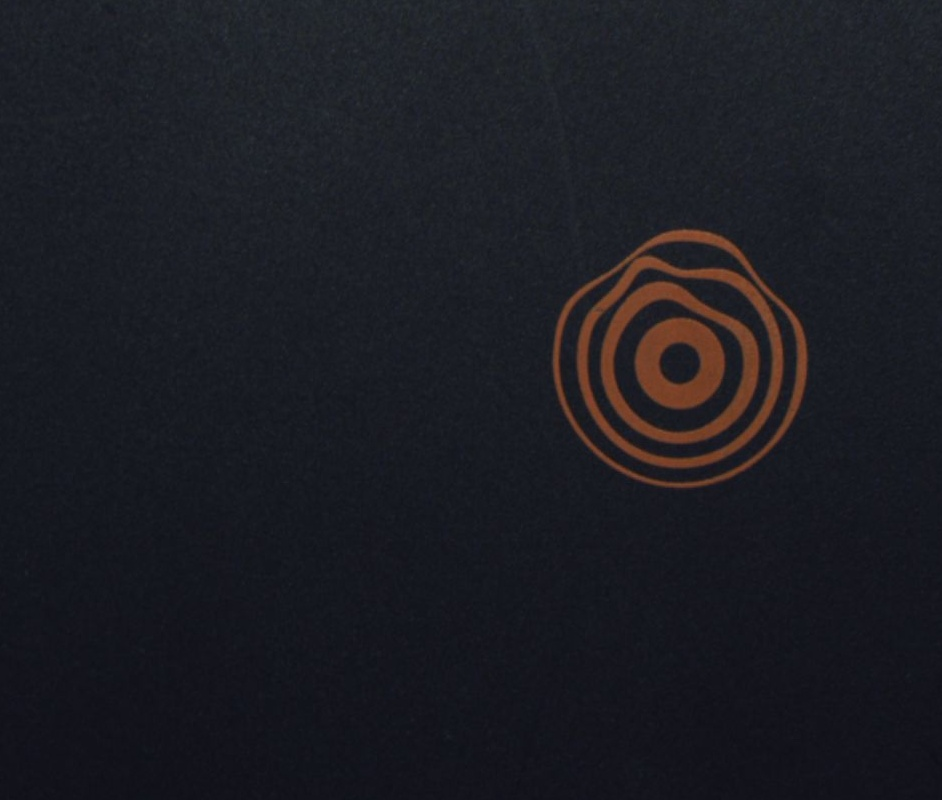BU_HG680GY: (544, 222, 816, 492)
